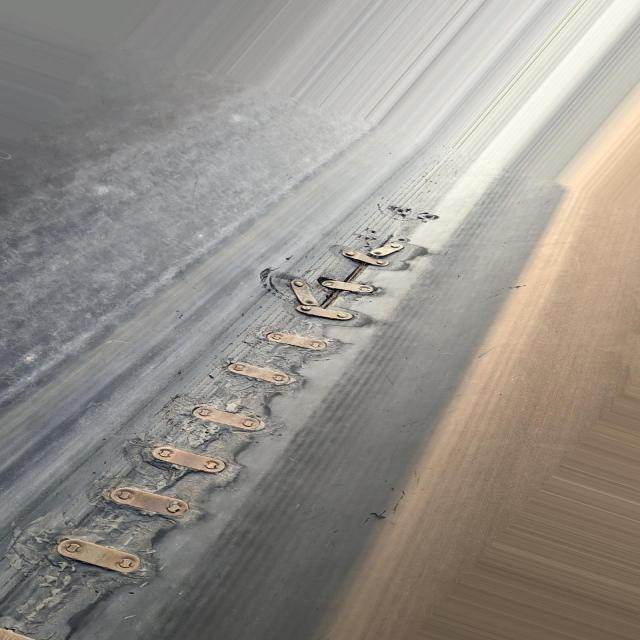patch work: (0, 199, 457, 640)
